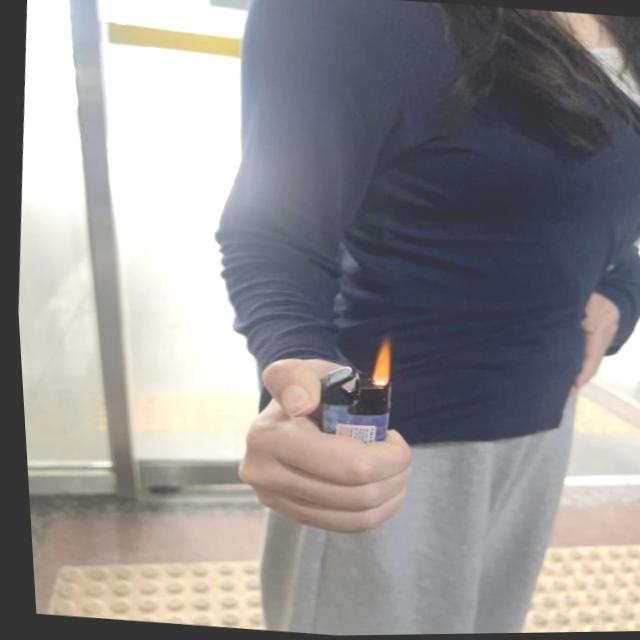Fire: (360, 338, 392, 383)
